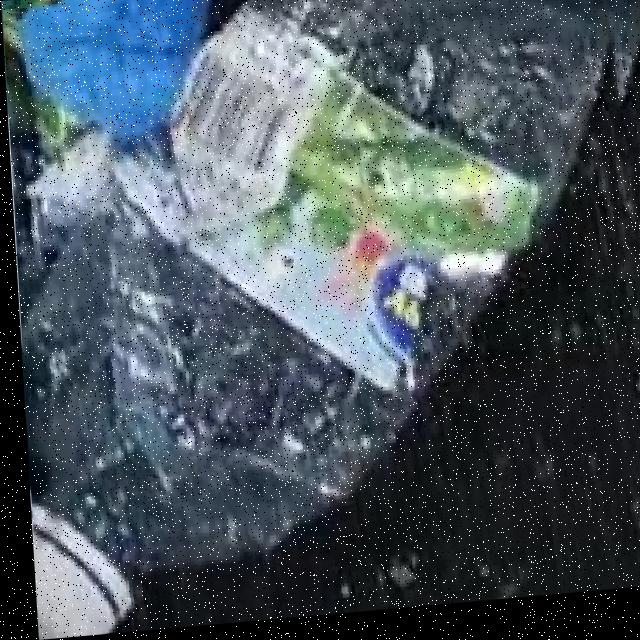plasticbottle: (15, 0, 624, 640)
